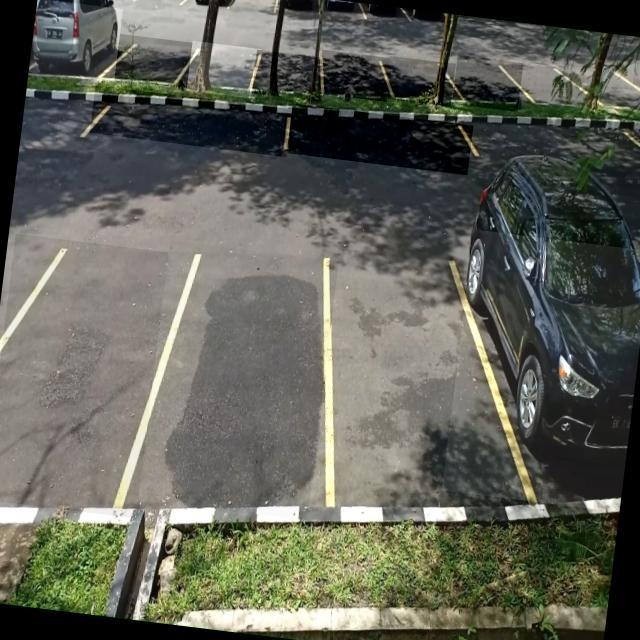empty: (138, 240, 339, 520), (308, 250, 498, 528), (0, 233, 170, 518), (90, 85, 292, 156), (282, 102, 473, 174), (112, 34, 195, 88), (187, 41, 260, 98), (316, 49, 392, 102), (452, 55, 522, 112), (251, 49, 326, 102), (384, 56, 456, 106)
occupied: (441, 229, 640, 512), (28, 0, 122, 82)
